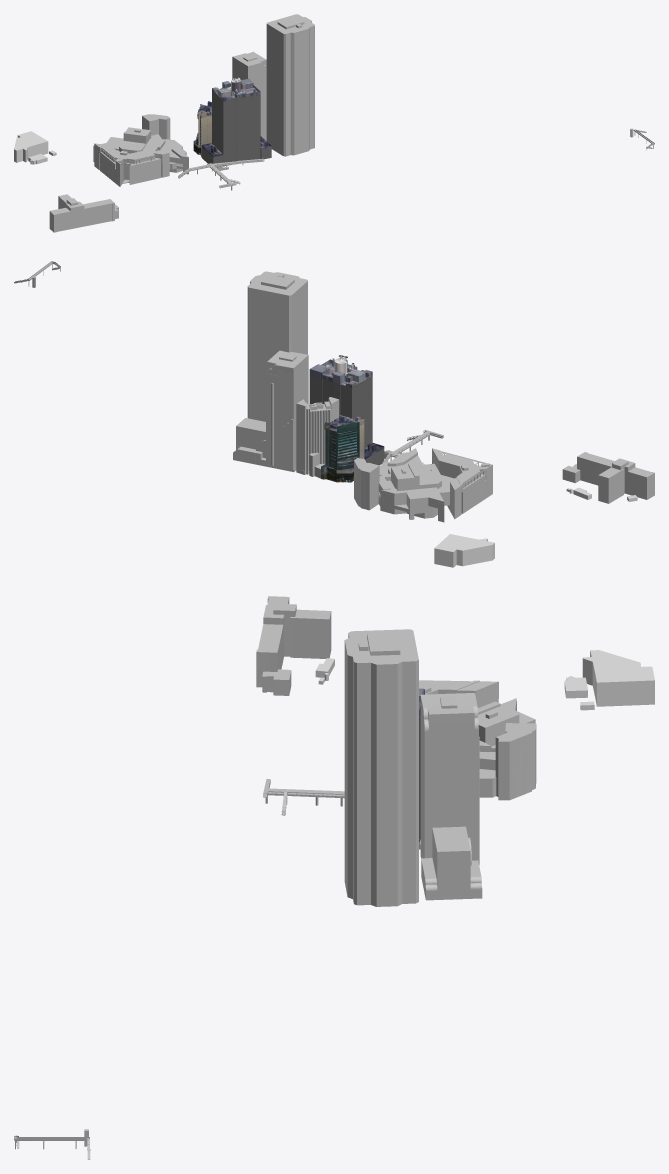
File: building2.fbx
3 renders of one model, top to bottom at view 1: azimuth 30°, elevation 25°; view 2: azimuth 150°, elevation 25°; view 3: azimuth 270°, elevation 25°, orthographic. The views are drawn at different scales.
Parts seen in each view (by area): view 1: B357491563701062C0, B356271566701062D0, B355361566401063A0, B353771561001063A0, B355741568101063A0, B357261571601063A0, B35433158130106010, B356441571601062D0, I355681557503062H0, B35593157480206010; view 2: B357491563701062C0, B357261571601063A0, B355741568101063A0, B356271566701062D0, B353771561001063A0, B355361566401063A0, B356741571101062D0, B356441571601062D0, B35433158130106010, B35593157480206010, I355681557503062H0; view 3: B357491563701062C0, B357261571601063A0, B353771561001063A0, B35433158130106010, B35593157480206010, B355741568101063A0, B355361566401063A0, I355681557503062H0.
Boxes of the visible parts, x1,y1,x2,y2 form: B357491563701062C0: [266, 14, 314, 156]; B356271566701062D0: [201, 77, 271, 167]; B355361566401063A0: [94, 143, 169, 186]; B353771561001063A0: [49, 194, 118, 232]; B355741568101063A0: [93, 127, 188, 174]; B357261571601063A0: [232, 51, 266, 140]; B35433158130106010: [14, 131, 48, 162]; B356441571601062D0: [193, 101, 211, 156]; I355681557503062H0: [178, 158, 264, 190]; B35593157480206010: [142, 114, 170, 139]; B357491563701062C0: [247, 271, 307, 421]; B357261571601063A0: [233, 350, 308, 471]; B355741568101063A0: [378, 448, 444, 522]; B356271566701062D0: [309, 355, 384, 465]; B353771561001063A0: [562, 452, 654, 503]; B355361566401063A0: [431, 448, 492, 519]; B356741571101062D0: [296, 397, 339, 478]; B356441571601062D0: [321, 415, 364, 482]; B35433158130106010: [434, 534, 494, 567]; B35593157480206010: [354, 458, 379, 510]; I355681557503062H0: [382, 429, 443, 464]; B357491563701062C0: [344, 629, 418, 906]; B357261571601063A0: [420, 693, 482, 900]; B353771561001063A0: [256, 596, 331, 695]; B35433158130106010: [582, 650, 654, 706]; B35593157480206010: [495, 723, 536, 800]; B355741568101063A0: [477, 698, 535, 797]; B355361566401063A0: [419, 680, 498, 707]; I355681557503062H0: [263, 779, 344, 815].
Bounding box in the file's own units: 72192 × 15796 × 37036.
